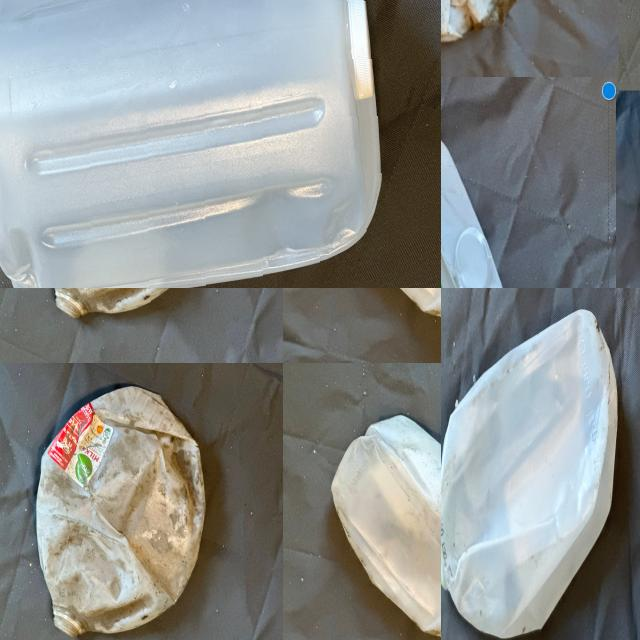milk-jug: (0, 0, 386, 288), (441, 308, 619, 638), (35, 386, 206, 638), (328, 411, 441, 640), (441, 126, 516, 288)
